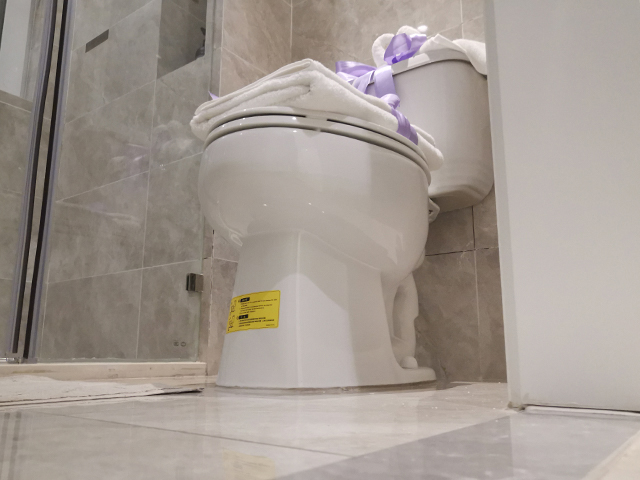carpet: (1, 371, 207, 408)
closestool: (194, 45, 493, 393)
